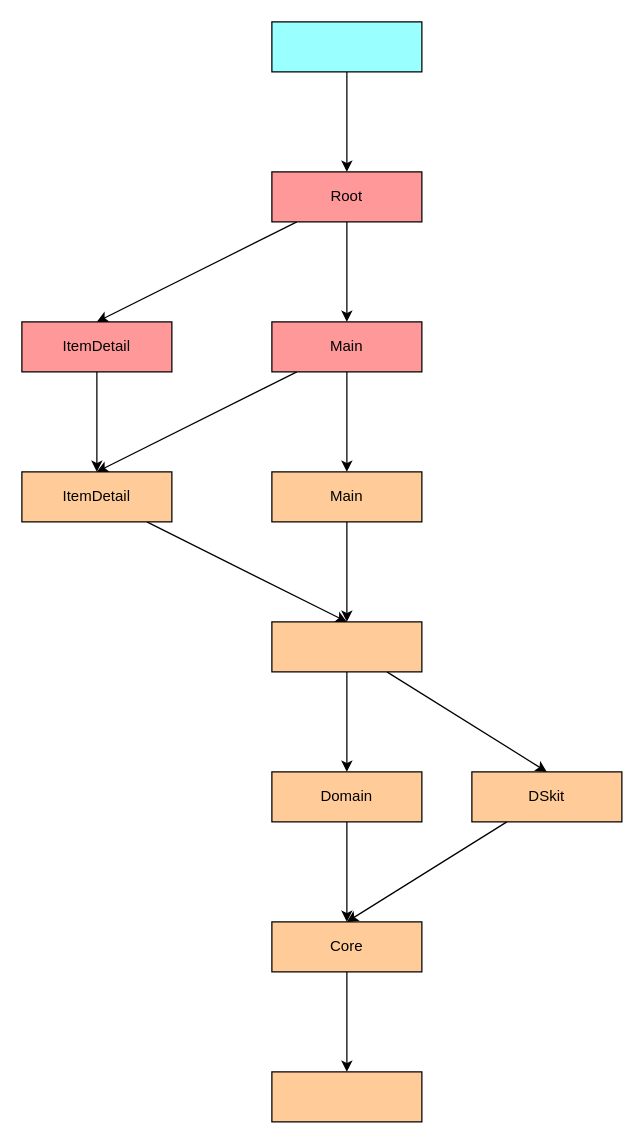
Some shapes in this 644 by 1144 pixel diagram are drawn without their labels. The centre of each missing label's shape, as x and y in pixels:
"App" goes at point (346, 46).
"BaseFeature" goes at point (346, 646).
"Third Party" goes at point (346, 1096).
